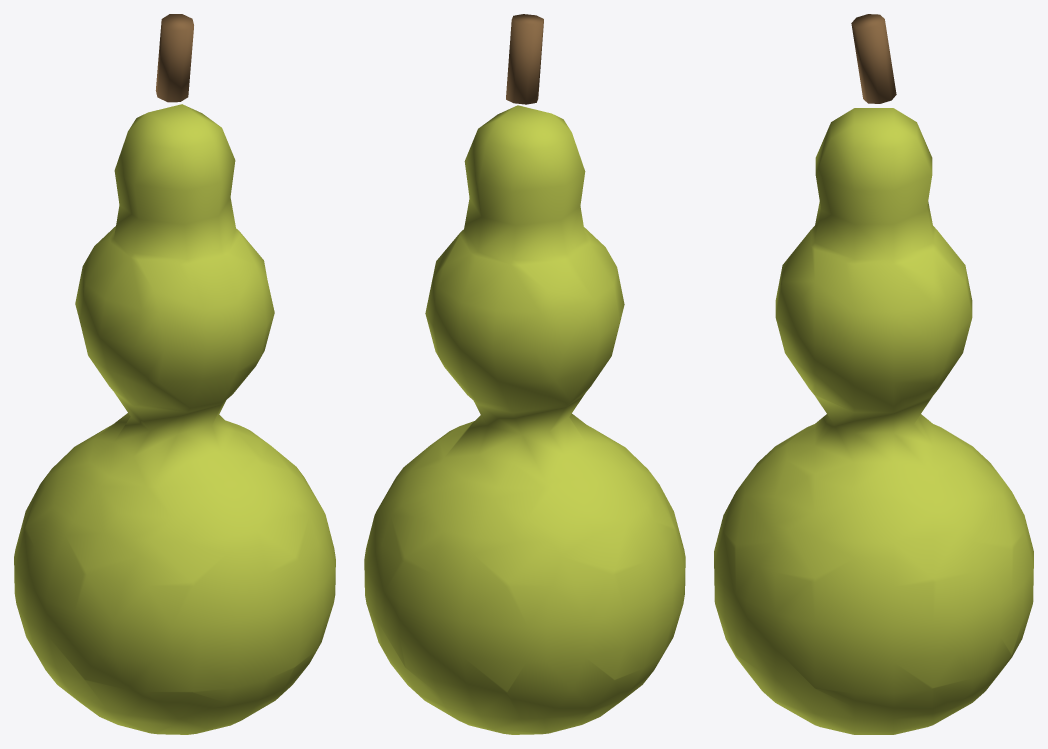
Rendered from pear.glb.
3 views of the same model, side by side, from view 1: azimuth 30°, elevation 25°; view 2: azimuth 150°, elevation 25°; view 3: azimuth 270°, elevation 25° (orthographic).
Visible parts, largest first — view 1: pear; view 2: pear; view 3: pear.
Part boxes in pixels (x1,y1,x2,y2): pear: [14, 14, 335, 734]; pear: [364, 14, 685, 734]; pear: [714, 14, 1033, 734].
Size of the model in its own units: 0.4139 by 1 by 0.4139.
